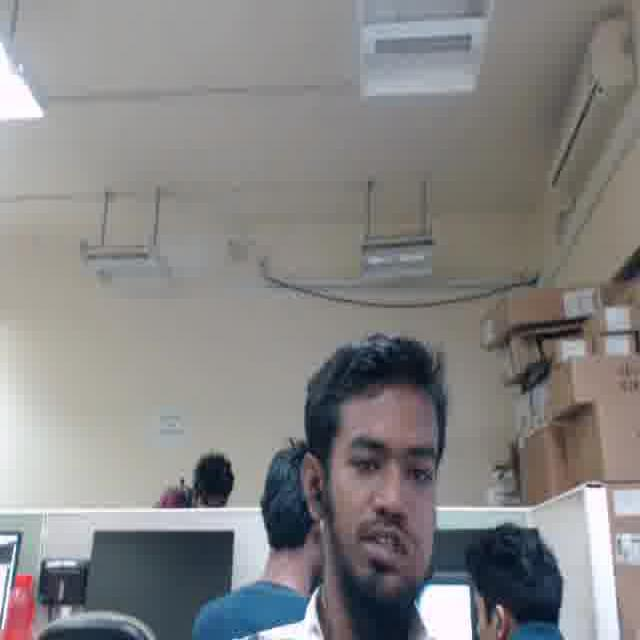Engaged: (325, 395, 442, 593)
